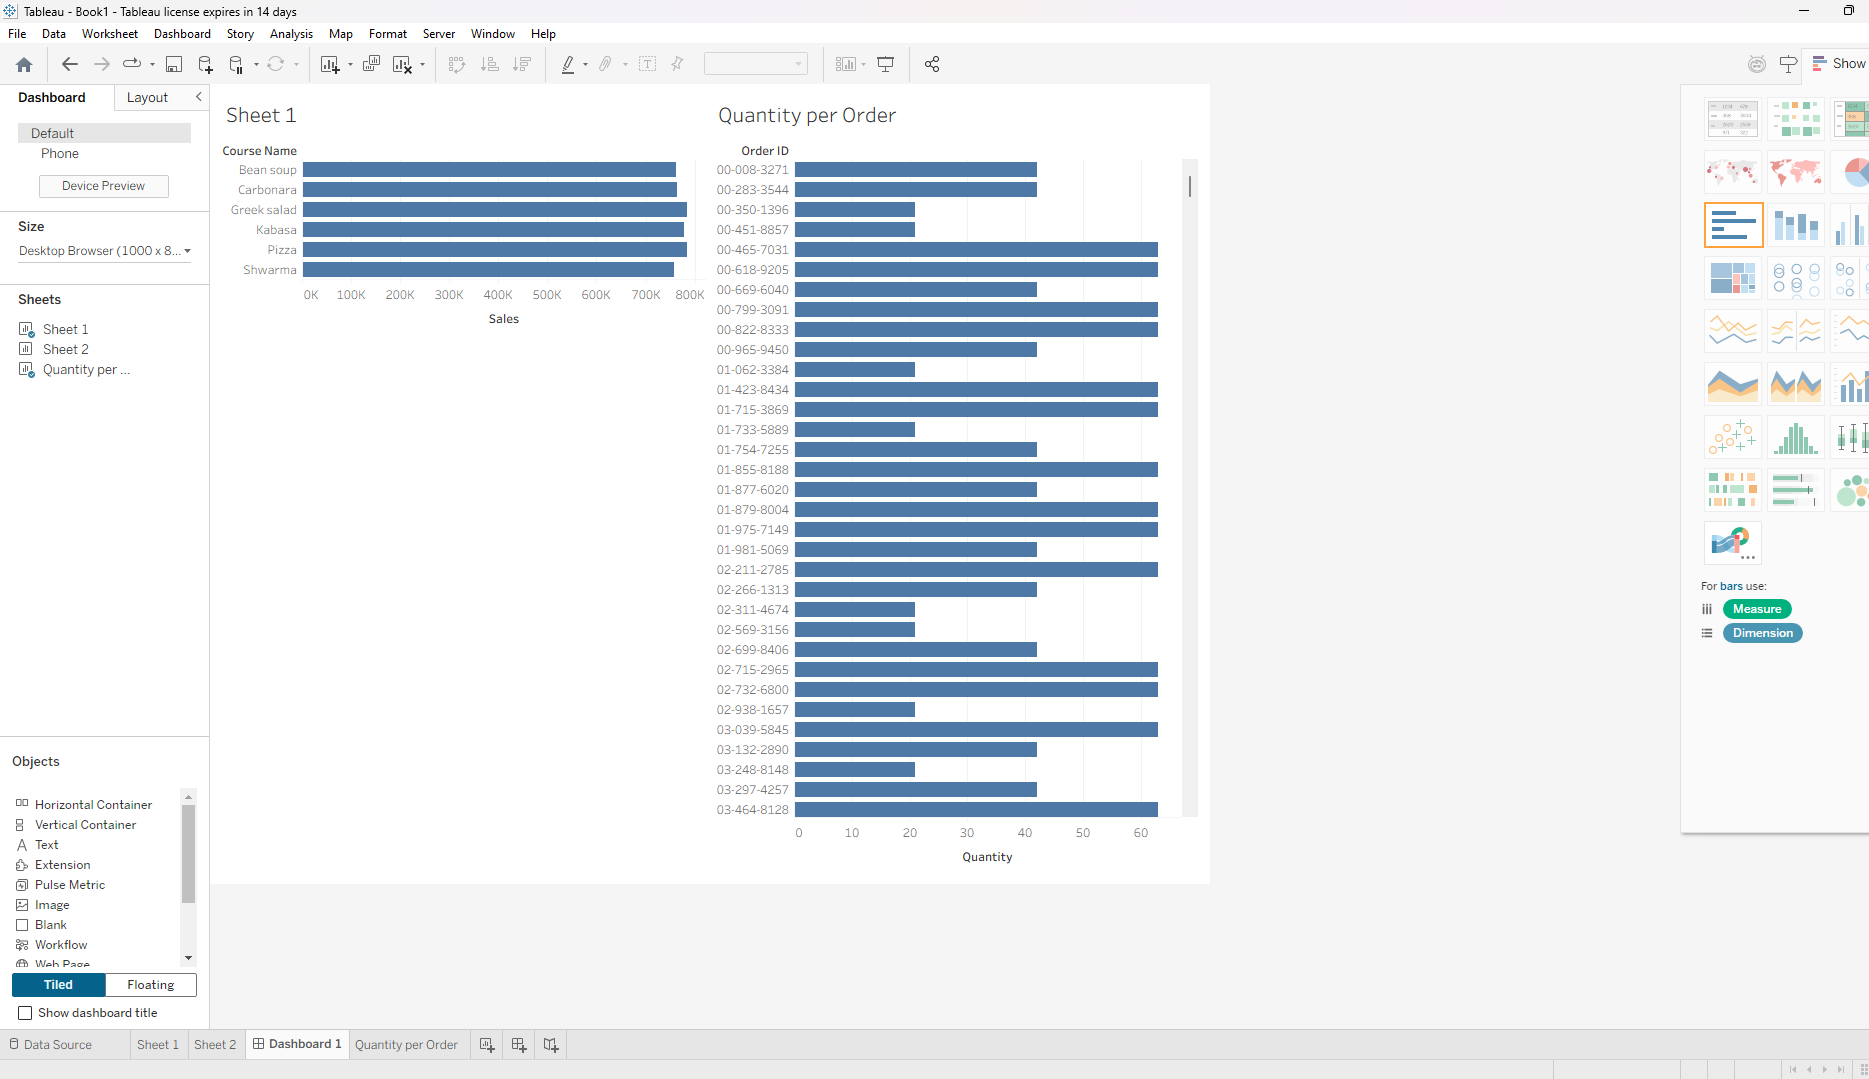

The page's visual inventory and layout, read from the dashboard file:
{"tool":"tableau","page":{"name":"Dashboard 1","canvas":[1000,800],"ordinal":0},"visuals":[{"type":"worksheet","title":"Little Lemon Sales","mark":"Automatic","rows":["Course Name"],"cols":["Sales"],"box":[8,8,492,784]},{"type":"worksheet","title":"Quantity per Order","mark":"Automatic","rows":["Order ID"],"cols":["Quantity"],"box":[500,8,492,784]}]}

Visuals, with their boxes on the page's 1000x800 design canvas (x1, y1, x2, y2). These are canvas units, not pixel positions in the 1869x1079 screenshot, which may show the page scaled, cropped or inside an application window:
"Little Lemon Sales" worksheet: detection(8, 8, 500, 792)
"Quantity per Order" worksheet: detection(500, 8, 992, 792)
